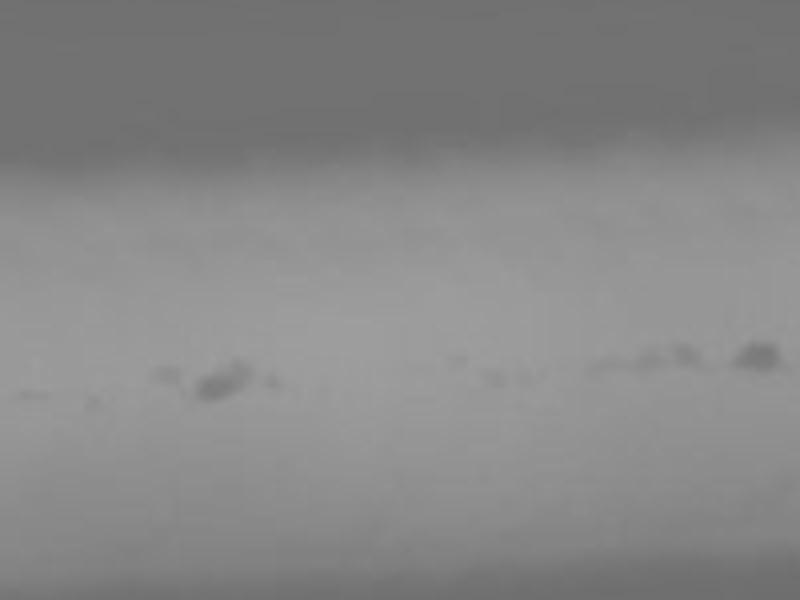defect: (733, 337, 782, 375), (196, 372, 242, 402), (625, 341, 665, 375), (581, 349, 628, 377), (667, 335, 702, 368), (225, 354, 255, 385), (146, 361, 184, 385), (484, 364, 512, 390), (447, 342, 471, 368), (80, 388, 105, 408), (18, 387, 56, 397), (262, 372, 278, 386)
